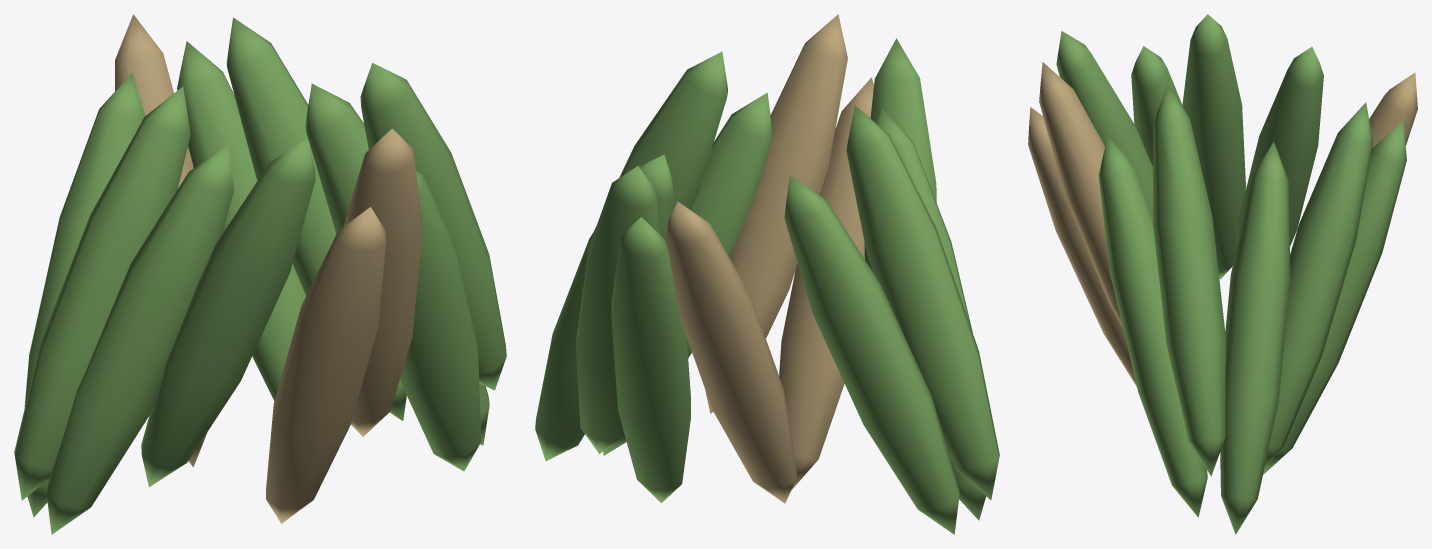
The model's file is grass_bundle.glb.
The picture shows the model from 3 angles, left to right: view 1: azimuth 30°, elevation 25°; view 2: azimuth 150°, elevation 25°; view 3: azimuth 270°, elevation 25°; orthographic projection. The views are drawn at different scales.
Visible parts, largest first — view 1: Blade1, Blade0; view 2: Blade1, Blade0; view 3: Blade1, Blade0.
Boxes of the visible parts, bbox=[...] form: Blade1: bbox=[14, 17, 506, 534]; Blade0: bbox=[115, 14, 421, 523]; Blade1: bbox=[535, 38, 999, 534]; Blade0: bbox=[666, 14, 873, 503]; Blade1: bbox=[1056, 14, 1406, 534]; Blade0: bbox=[1028, 62, 1417, 386].
Bounding box in the file's own units: 0.5381 × 0.4757 × 0.4334.
